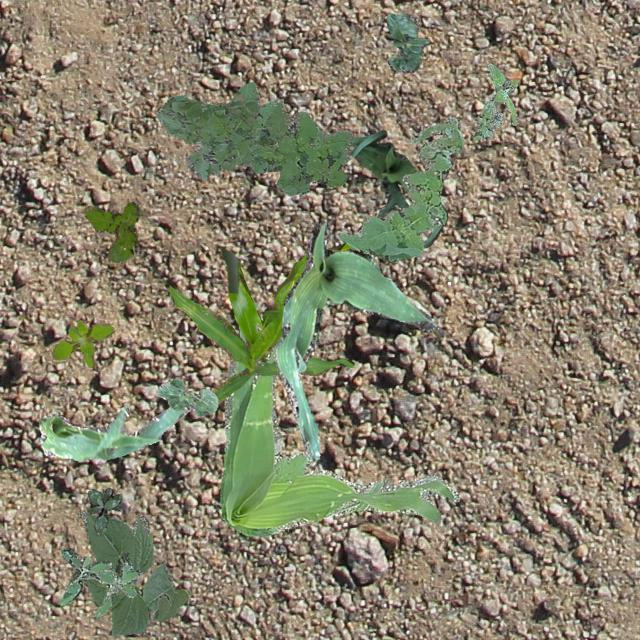crop: (272, 220, 436, 460), (168, 243, 352, 402), (76, 509, 188, 634), (348, 128, 446, 246), (38, 404, 194, 460), (386, 12, 428, 72), (156, 378, 218, 414)
weed: (218, 300, 458, 534), (156, 80, 352, 194), (338, 114, 464, 260), (58, 548, 140, 618), (82, 200, 140, 262), (472, 62, 518, 138), (52, 318, 114, 366), (86, 487, 120, 532)
